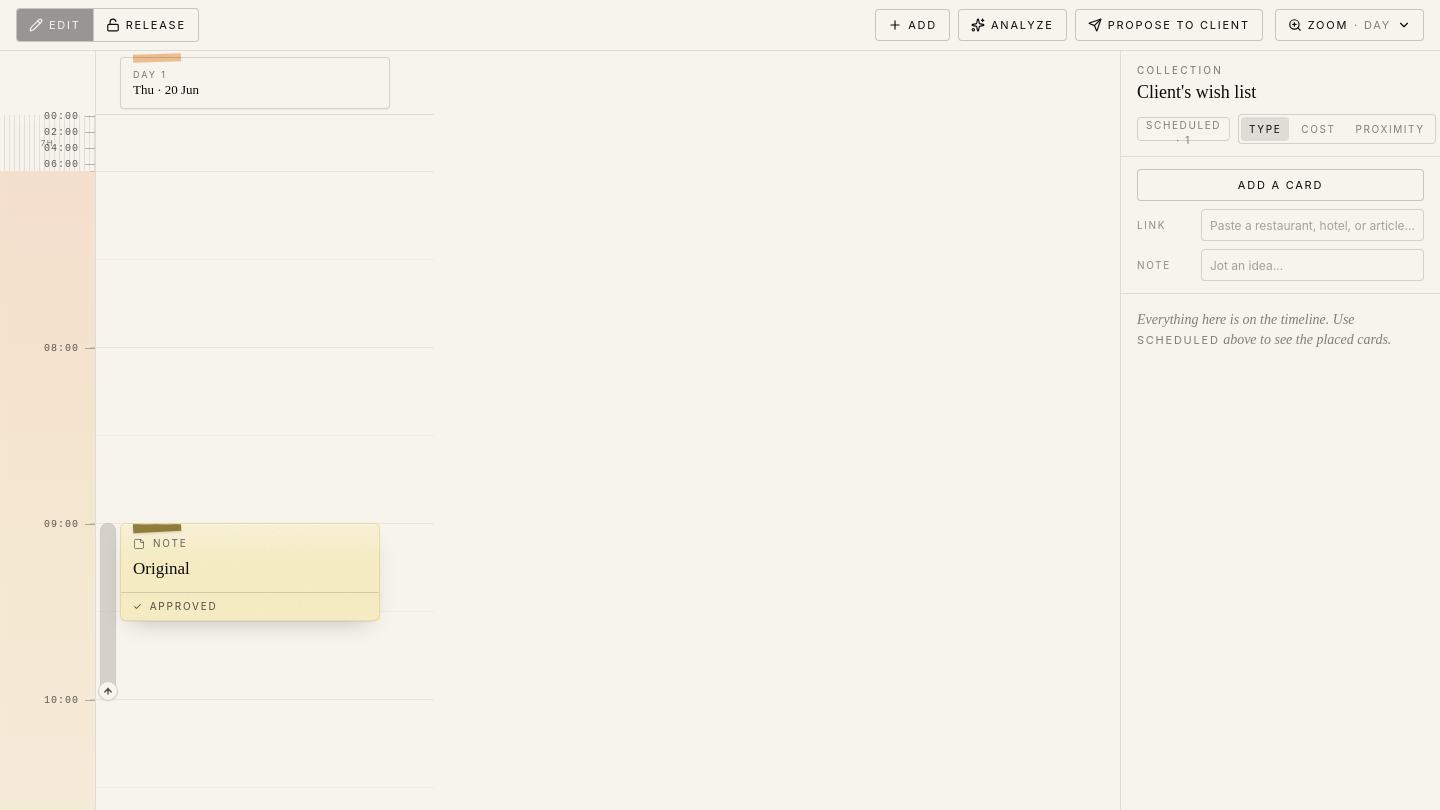
Timeline toolbar — authoring lives here now › advisor sees Add + Analyze; Analyze opens the modal
Expected: the button with test id "itinerary-graph-add-card" is shown, [875,9,950,41]
Click the button with test id "itinerary-graph-tool-analyze" at (1012, 25), box [958,9,1067,41]
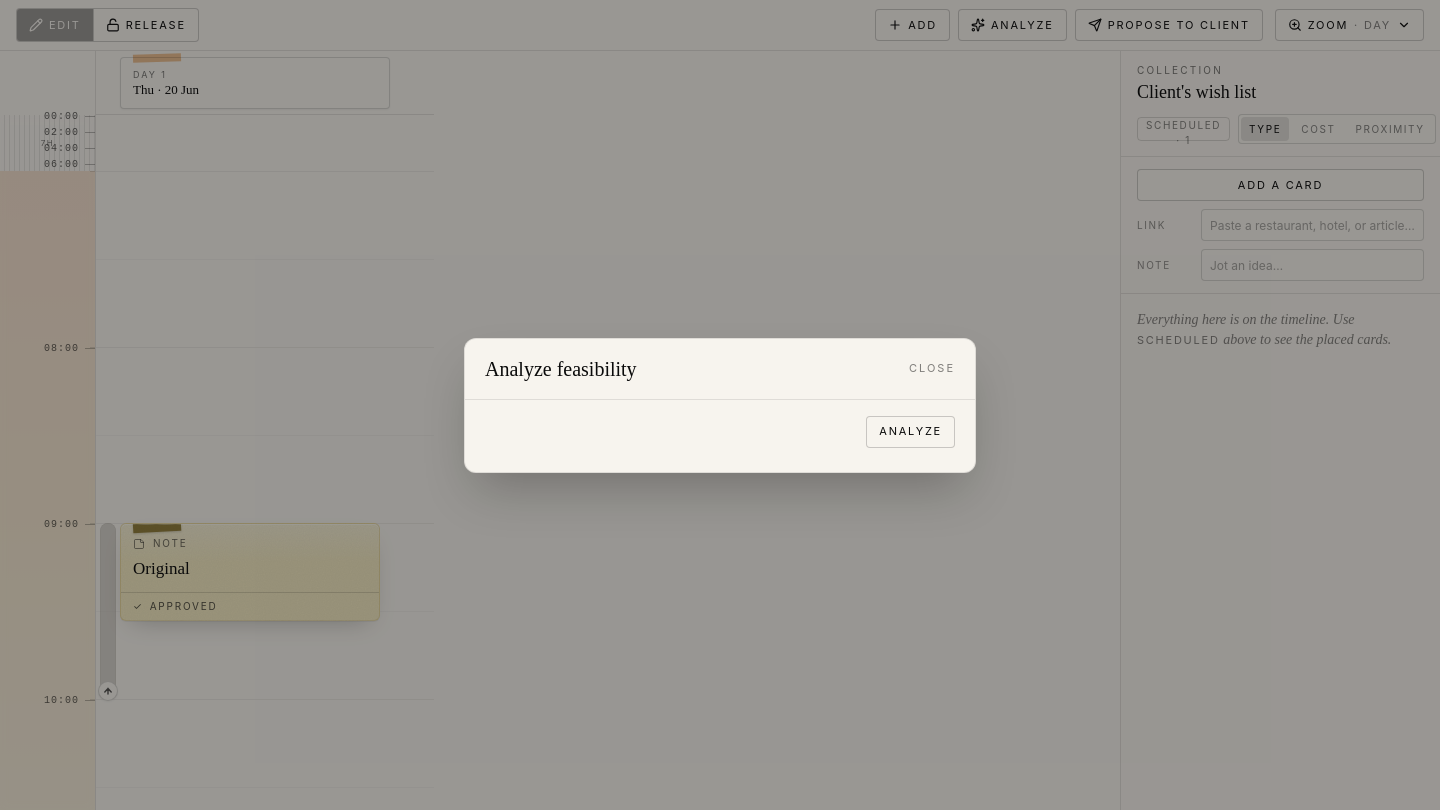
Expected: the element with test id "analyze-modal" is shown
Expected: the element with test id "itinerary-graph-analyze" is shown, [866,416,955,448]
